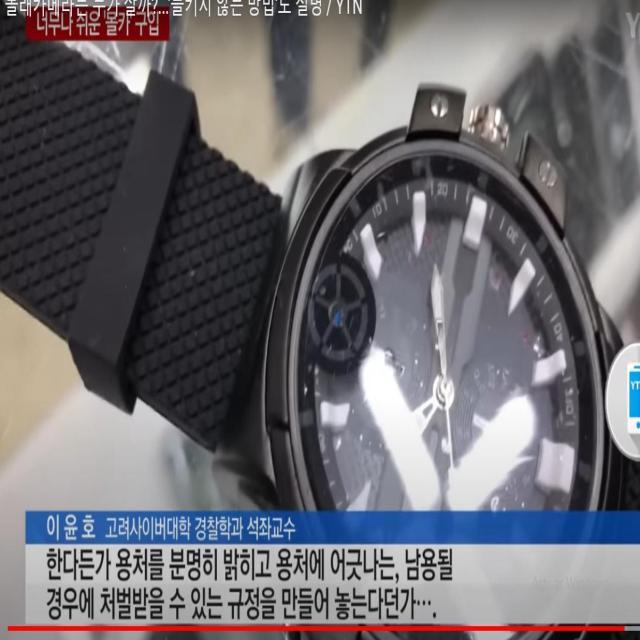hidden camera: (313, 271, 366, 358)
